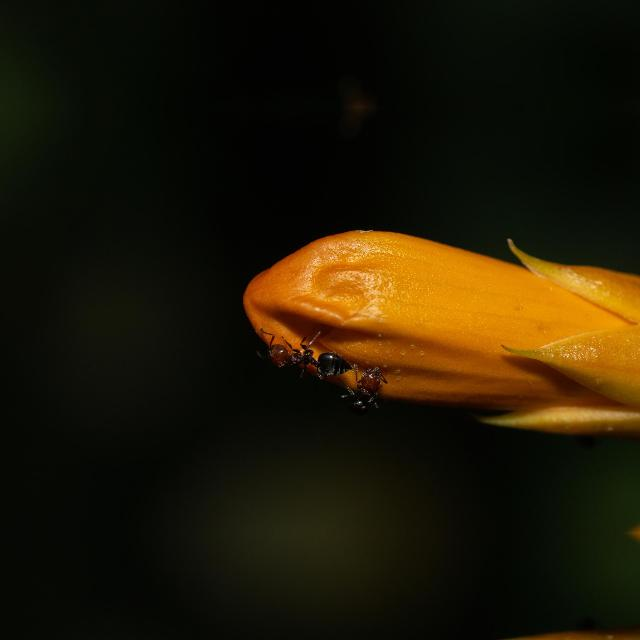Crematogaster: (260, 332, 352, 382), (346, 354, 390, 412)
